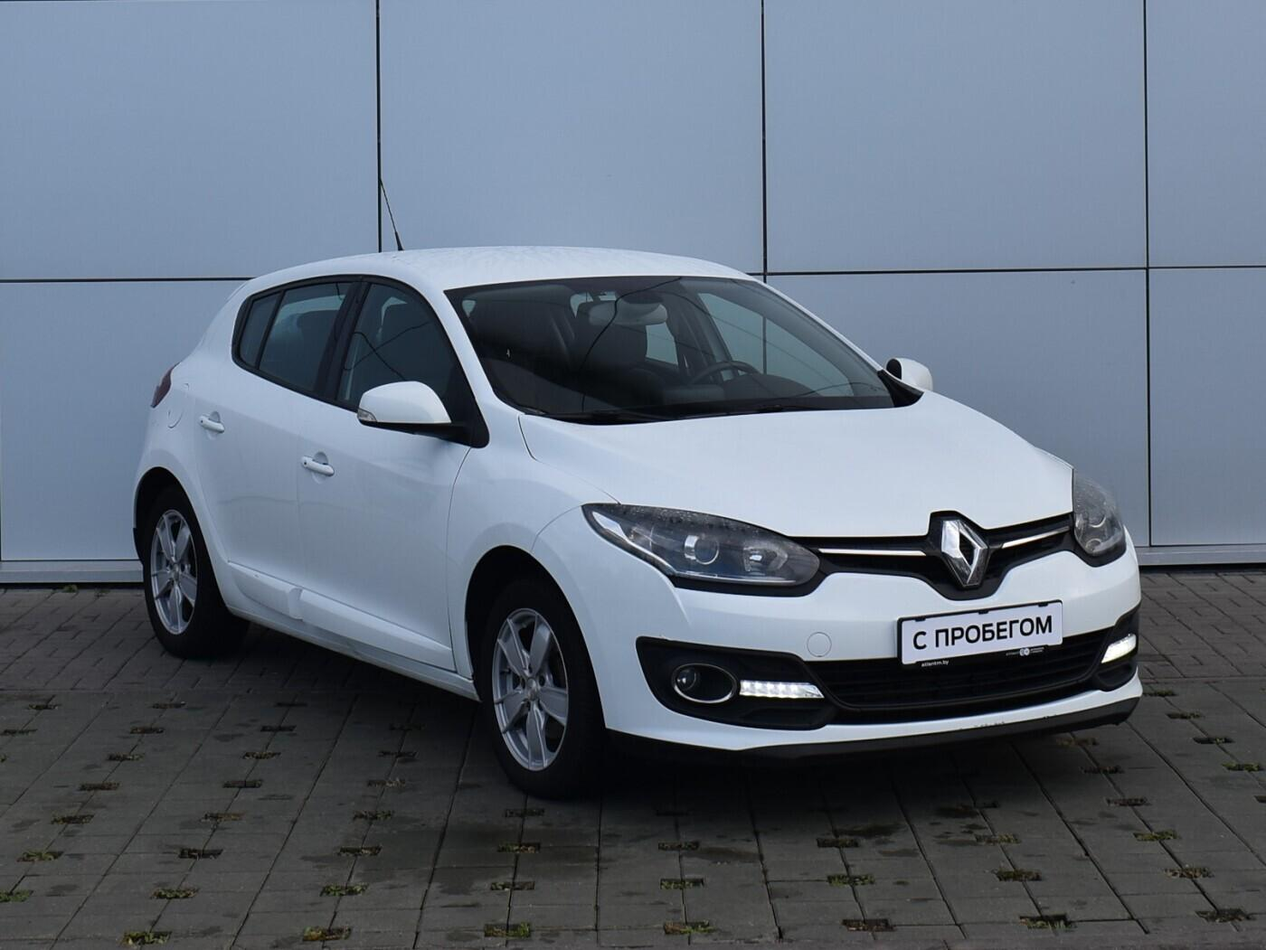Megane_2014-2016: (128, 245, 1164, 801)
